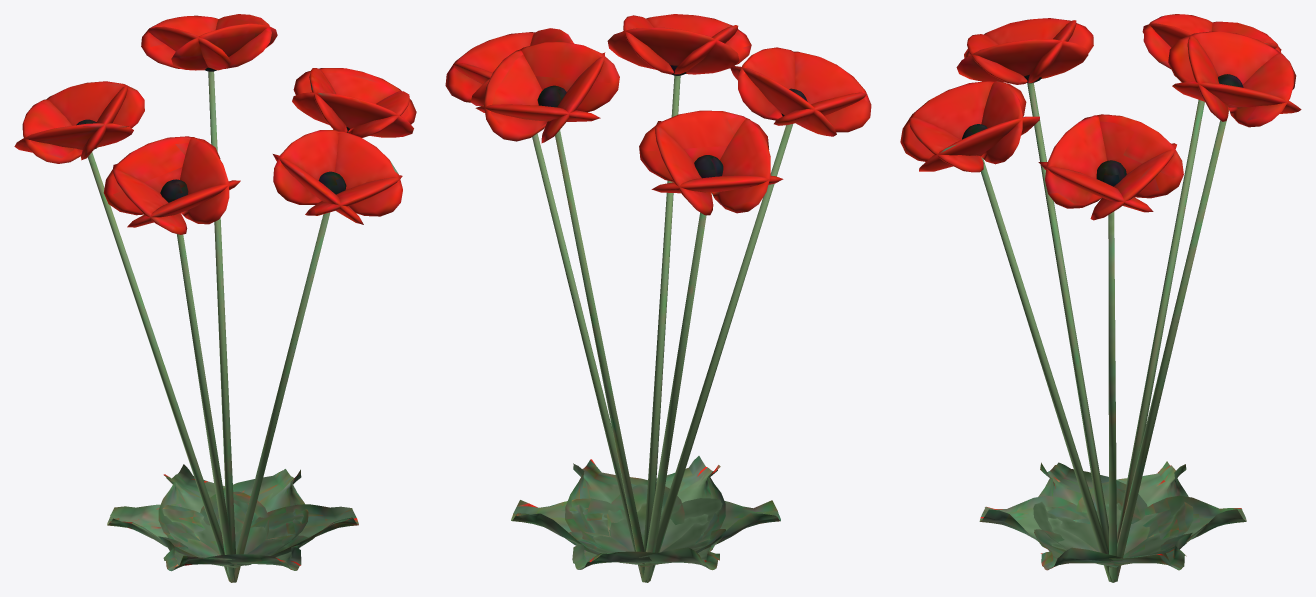
File: crop_poppy.glb
The picture shows the model from 3 angles, left to right: view 1: azimuth 30°, elevation 25°; view 2: azimuth 150°, elevation 25°; view 3: azimuth 270°, elevation 25°; orthographic projection. The views are drawn at different scales.
Parts seen in each view (by area): view 1: fruit, crop_poppy; view 2: fruit, crop_poppy; view 3: fruit, crop_poppy.
Boxes of the visible parts, box(x1,y1,x2,y2) form: fruit: box(14, 14, 416, 234); crop_poppy: box(76, 67, 358, 582); fruit: box(445, 14, 871, 215); crop_poppy: box(511, 65, 807, 582); fruit: box(900, 14, 1301, 220); crop_poppy: box(962, 74, 1246, 582).
Bounding box in the file's own units: 0.2252 × 0.3263 × 0.2152.
1 material, 1 textured.
